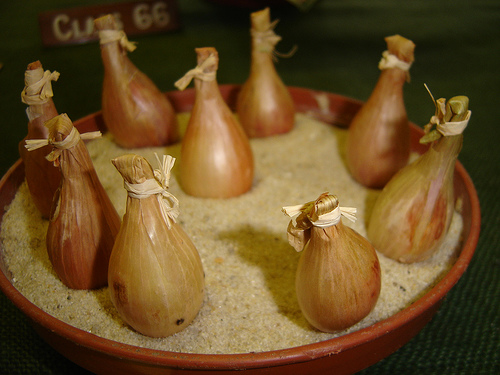onion: (109, 155, 205, 338), (282, 192, 380, 333), (175, 48, 253, 196)
